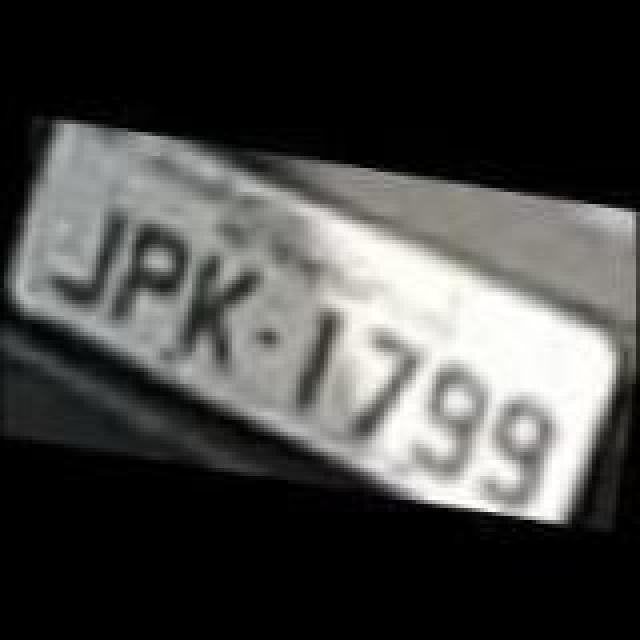1: (278, 300, 346, 420)
7: (336, 320, 432, 460)
9: (464, 380, 564, 520), (400, 350, 500, 490)
J: (30, 184, 130, 312)
K: (160, 244, 268, 372)
P: (94, 216, 194, 340)
